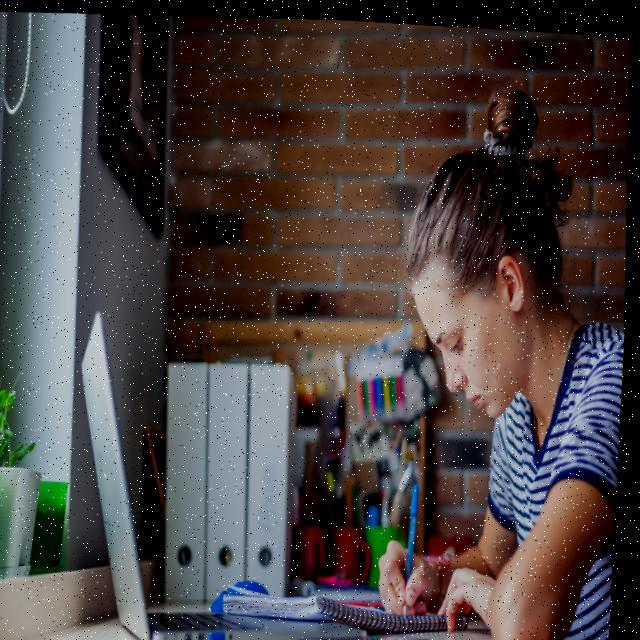studying-person: (190, 53, 638, 640)
